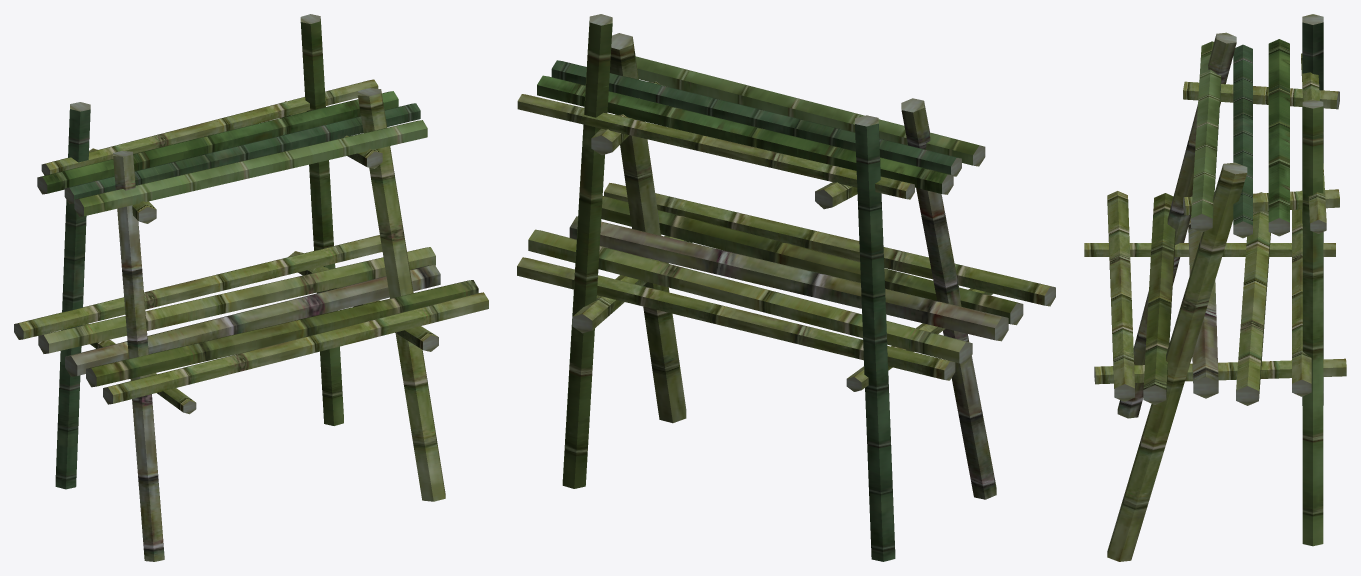
The model's file is a_wujian_zhujiazi.fbx.
3 renders of one model, left to right at view 1: azimuth 30°, elevation 25°; view 2: azimuth 150°, elevation 25°; view 3: azimuth 270°, elevation 25°, orthographic. The views are drawn at different scales.
Parts seen in each view (by area): view 1: a_wujian_zhujiazi; view 2: a_wujian_zhujiazi; view 3: a_wujian_zhujiazi.
Boxes of the visible parts, x1,y1,x2,y2 form: a_wujian_zhujiazi: [14, 14, 488, 561]; a_wujian_zhujiazi: [517, 14, 1055, 561]; a_wujian_zhujiazi: [1084, 14, 1346, 561].
Size of the model in its own units: 2.81 by 2.92 by 1.58.
